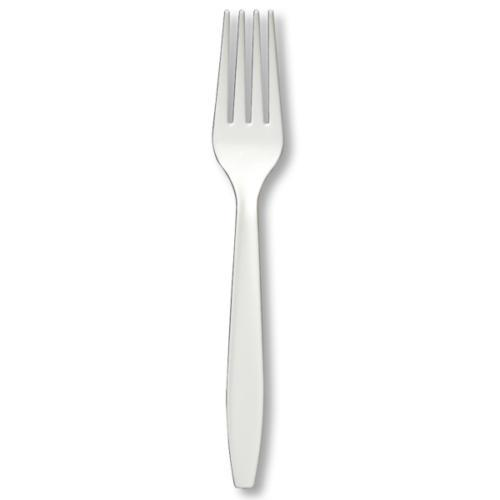Fork: (211, 8, 285, 490)
